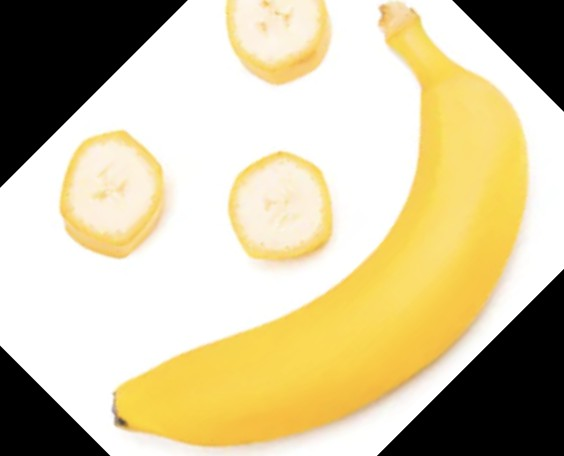fresh_banana: (111, 2, 528, 448)
